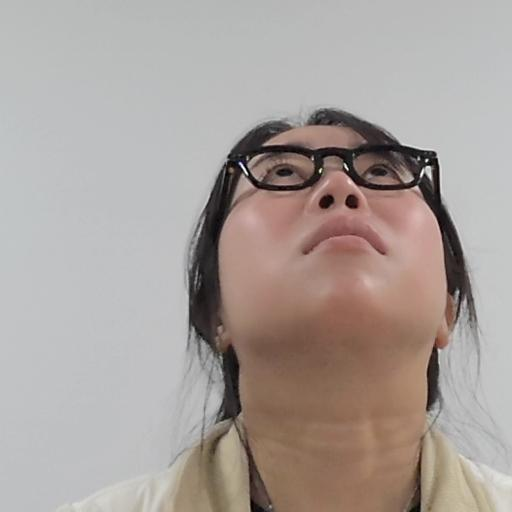no_glasses: (191, 108, 471, 402)
